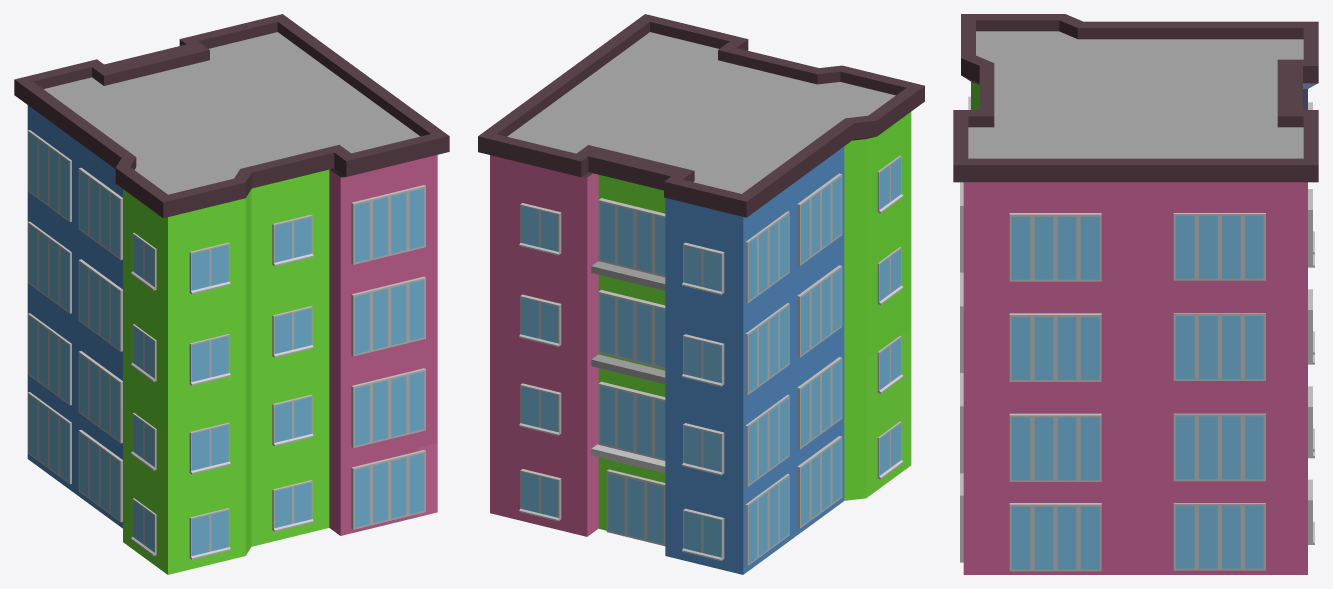
Rendered from Apartment_1.fbx.
3 renders of one model, left to right at view 1: azimuth 30°, elevation 25°; view 2: azimuth 150°, elevation 25°; view 3: azimuth 270°, elevation 25°, orthographic. The views are drawn at different scales.
Visible parts, largest first — view 1: Appartment; view 2: Appartment; view 3: Appartment.
Part boxes in pixels (x1,y1,x2,y2): Appartment: (14, 14, 449, 574); Appartment: (478, 14, 924, 574); Appartment: (953, 14, 1318, 574).
Bounding box in the file's own units: 29.08 × 37.14 × 29.7.
